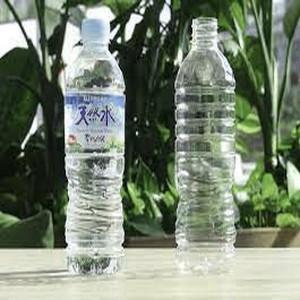Plastic: (175, 18, 240, 282), (64, 17, 126, 278)
